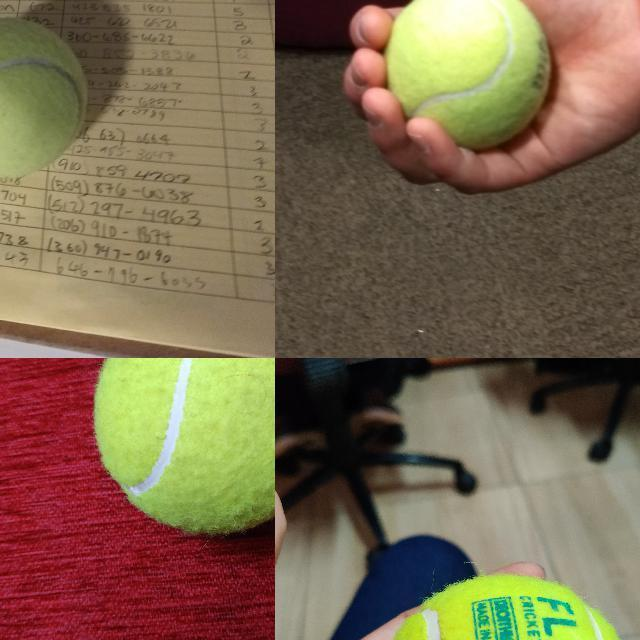tennis-ball: (92, 358, 274, 536), (392, 0, 552, 116), (376, 575, 637, 639), (0, 15, 90, 181)
